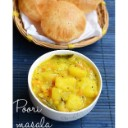poori: (41, 2, 85, 43)
